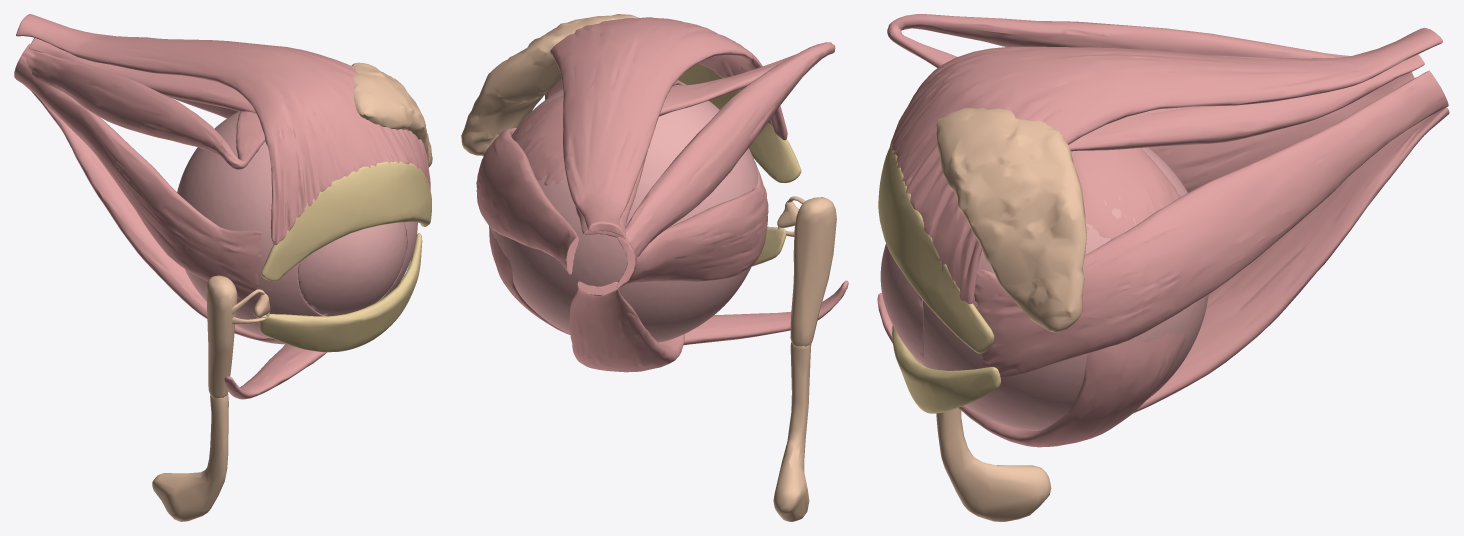
The model's file is sensory-eye-left.v1.glb.
3 views of the same model, side by side, from view 1: azimuth 30°, elevation 25°; view 2: azimuth 150°, elevation 25°; view 3: azimuth 270°, elevation 25° (orthographic). The views are drawn at different scales.
Parts seen in each view (by area): view 1: left_levator_palpebrae_superioris, left_medial_rectus, left_sclera, left_superior_oblique, tarsal_plate_of_left_upper_eyelid, left_cornea, tarsal_plate_of_left_lower_eyelid, left_inferior_rectus, left_nasolacrimal_duct, left_lacrimal_gland, left_superior_rectus, left_lacrimal_sac (+1 smaller); view 2: left_levator_palpebrae_superioris, left_sclera, left_superior_oblique, left_medial_rectus, left_lateral_rectus, left_lacrimal_gland, left_inferior_rectus, left_lacrimal_sac, left_nasolacrimal_duct, left_inferior_oblique, tarsal_plate_of_left_upper_eyelid, left_superior_rectus (+1 smaller); view 3: left_lateral_rectus, left_levator_palpebrae_superioris, left_lacrimal_gland, left_superior_oblique, left_inferior_rectus, left_sclera, left_superior_rectus, left_inferior_oblique, tarsal_plate_of_left_upper_eyelid, left_nasolacrimal_duct, left_medial_rectus, tarsal_plate_of_left_lower_eyelid (+1 smaller).
Boxes of the visible parts, box(x1,y1,x2,y2) form: left_levator_palpebrae_superioris: box(16, 14, 430, 244); left_medial_rectus: box(14, 53, 264, 302); left_sclera: box(177, 111, 417, 338); left_superior_oblique: box(22, 43, 265, 169); tarsal_plate_of_left_upper_eyelid: box(261, 161, 431, 280); left_cornea: box(298, 222, 406, 316); tarsal_plate_of_left_lower_eyelid: box(259, 233, 422, 352); left_inferior_rectus: box(16, 79, 287, 344); left_nasolacrimal_duct: box(152, 394, 228, 521); left_lacrimal_gland: box(351, 62, 432, 167); left_superior_rectus: box(29, 38, 256, 113); left_lacrimal_sac: box(206, 275, 237, 398); left_levator_palpebrae_superioris: box(545, 17, 787, 236); left_sclera: box(491, 85, 758, 342); left_superior_oblique: box(513, 42, 835, 256); left_medial_rectus: box(616, 161, 768, 288); left_lateral_rectus: box(476, 128, 579, 274); left_lacrimal_gland: box(461, 14, 639, 155); left_inferior_rectus: box(569, 281, 684, 372); left_lacrimal_sac: box(790, 197, 836, 346); left_nasolacrimal_duct: box(773, 342, 811, 521); left_inferior_oblique: box(489, 226, 848, 345); tarsal_plate_of_left_upper_eyelid: box(678, 63, 801, 182); left_superior_rectus: box(575, 80, 686, 239); left_lateral_rectus: box(974, 70, 1448, 378); left_levator_palpebrae_superioris: box(890, 27, 1442, 304); left_lacrimal_gland: box(936, 108, 1086, 332); left_superior_oblique: box(887, 14, 1350, 239); left_inferior_rectus: box(971, 107, 1449, 419); left_sclera: box(923, 147, 1208, 430); left_superior_rectus: box(1068, 54, 1424, 151); left_inferior_oblique: box(877, 292, 1186, 447); tarsal_plate_of_left_upper_eyelid: box(878, 144, 994, 353); left_nasolacrimal_duct: box(936, 408, 1051, 521); left_medial_rectus: box(1148, 72, 1414, 192); tarsal_plate_of_left_lower_eyelid: box(892, 325, 1000, 413).
Bounding box in the file's own units: 0.0357 × 0.0492 × 0.0473.
